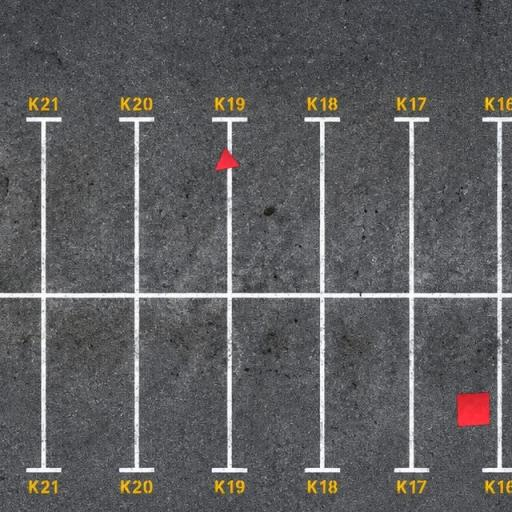RED_SQUARE: (456, 391, 491, 427)
